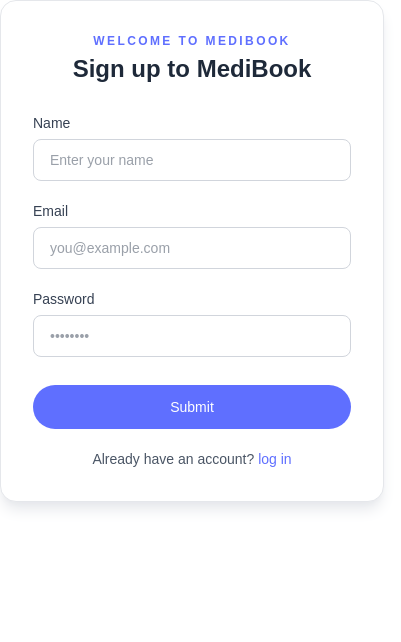
Test: Authentication Form › should show validation errors for invalid signup input
The image size is (401, 642).
Type "ab" into the field labelled "Name".
click(192, 160); type("ab")  # box [33,139,351,181]
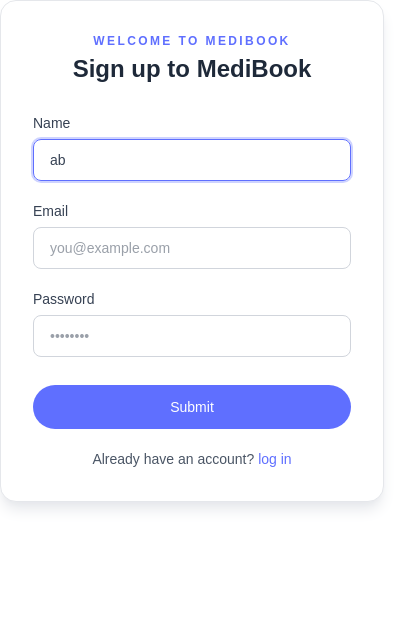
Type "abc" into the field labelled "Email".
click(192, 248); type("abc")  # box [33,227,351,269]
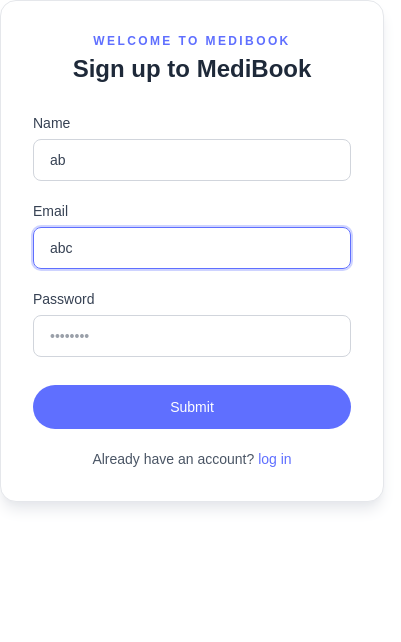
Type "abcdefgh" into the password field labelled "Password".
click(192, 336); type("abcdefgh")  # box [33,315,351,357]
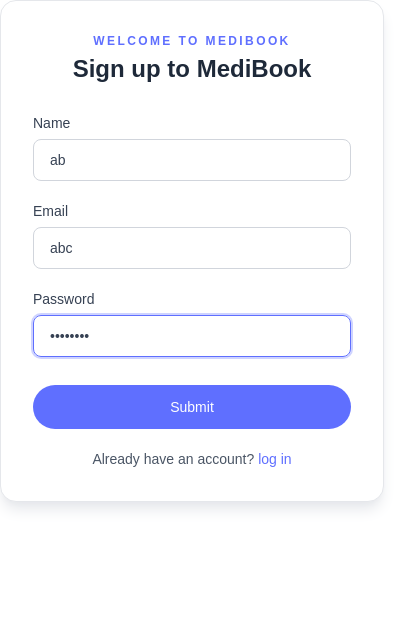
Click the button "Submit".
click(192, 407)  # box [33,385,351,429]
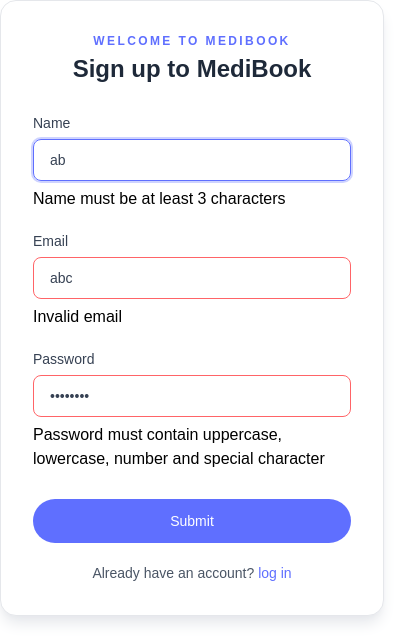
Now the text "Name must be at least 3 characters" is shown, box [33,190,286,207]
Now the text "Invalid email" is shown, box [33,308,122,325]
Now the text "Password must contain uppercase, lowercase, number and special character" is shown, box [33,423,351,471]
